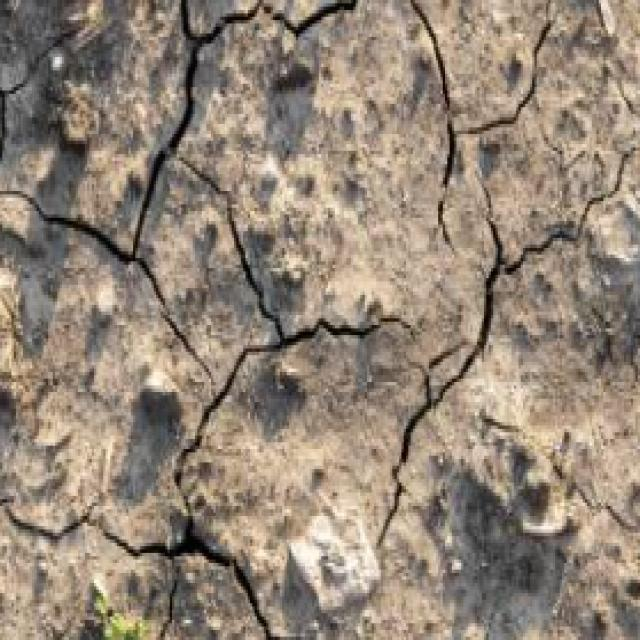branched cracks: (0, 0, 411, 639), (374, 160, 624, 549), (409, 0, 556, 248)
